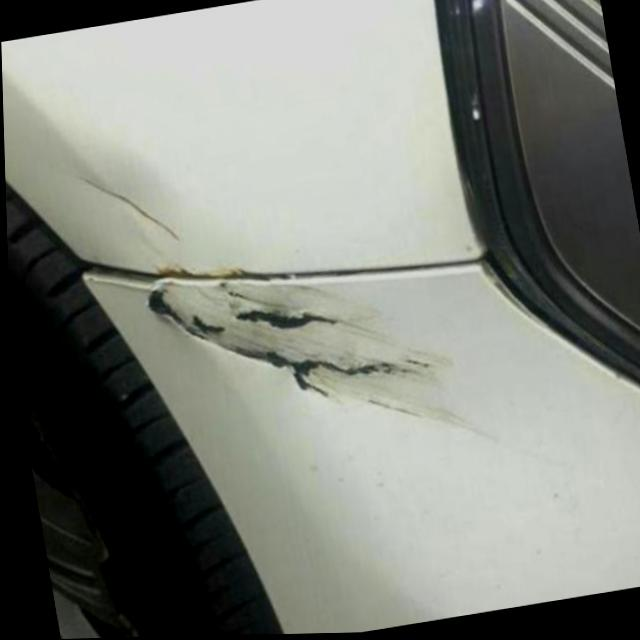Scratch: (130, 259, 507, 458), (72, 173, 188, 247)
